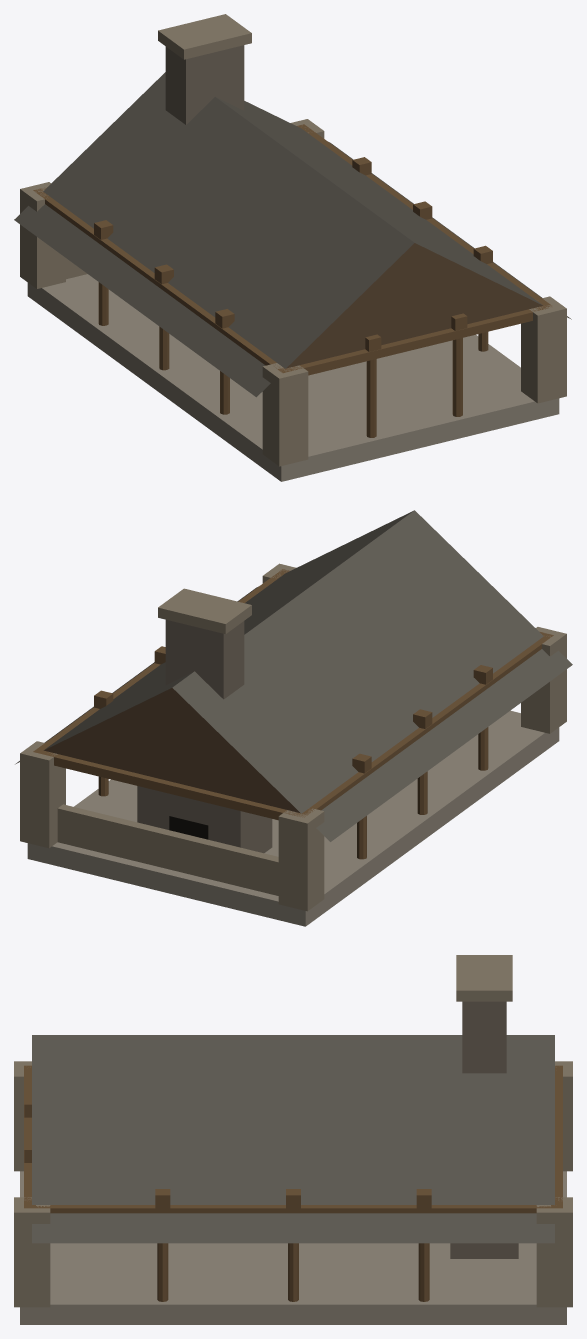
Rendered from boyle-park-pavilion-3.glb.
The picture shows the model from 3 angles, top to bottom: view 1: azimuth 30°, elevation 25°; view 2: azimuth 150°, elevation 25°; view 3: azimuth 270°, elevation 25°; orthographic projection. The views are drawn at different scales.
Parts seen in each view (by area): view 1: boyle_shake, boyle_flag, boyle_stone, boyle_board, boyle_log, boyle_stone2, boyle_trim; view 2: boyle_shake, boyle_stone, boyle_flag, boyle_board, boyle_stone2, boyle_log, boyle_trim, boyle_shadow; view 3: boyle_shake, boyle_flag, boyle_stone, boyle_log, boyle_stone2, boyle_trim.
Part boxes in pixels (left/top/right/bottom): boyle_shake: left=14, top=72, right=571, bottom=397; boyle_flag: left=27, top=274, right=559, bottom=481; boyle_stone: left=20, top=14, right=566, bottom=466; boyle_board: left=286, top=243, right=542, bottom=368; boyle_log: left=33, top=124, right=551, bottom=437; boyle_stone2: left=165, top=45, right=244, bottom=124; boyle_trim: left=94, top=157, right=492, bottom=351; boyle_shake: left=15, top=510, right=572, bottom=841; boyle_stone: left=20, top=563, right=566, bottom=911; boyle_flag: left=27, top=710, right=559, bottom=926; boyle_board: left=44, top=688, right=299, bottom=812; boyle_stone2: left=137, top=619, right=272, bottom=853; boyle_log: left=33, top=569, right=553, bottom=859; boyle_trim: left=94, top=646, right=492, bottom=773; boyle_shadow: left=169, top=816, right=208, bottom=839; boyle_shake: left=32, top=1035, right=554, bottom=1243; boyle_flag: left=20, top=1171, right=566, bottom=1324; boyle_stone: left=14, top=955, right=572, bottom=1307; boyle_log: left=24, top=1065, right=562, bottom=1301; boyle_stone2: left=450, top=1001, right=518, bottom=1258; boyle_trim: left=24, top=1098, right=431, bottom=1208.
Bounding box in the file's own units: 9.8 × 7.65 × 13.9.
